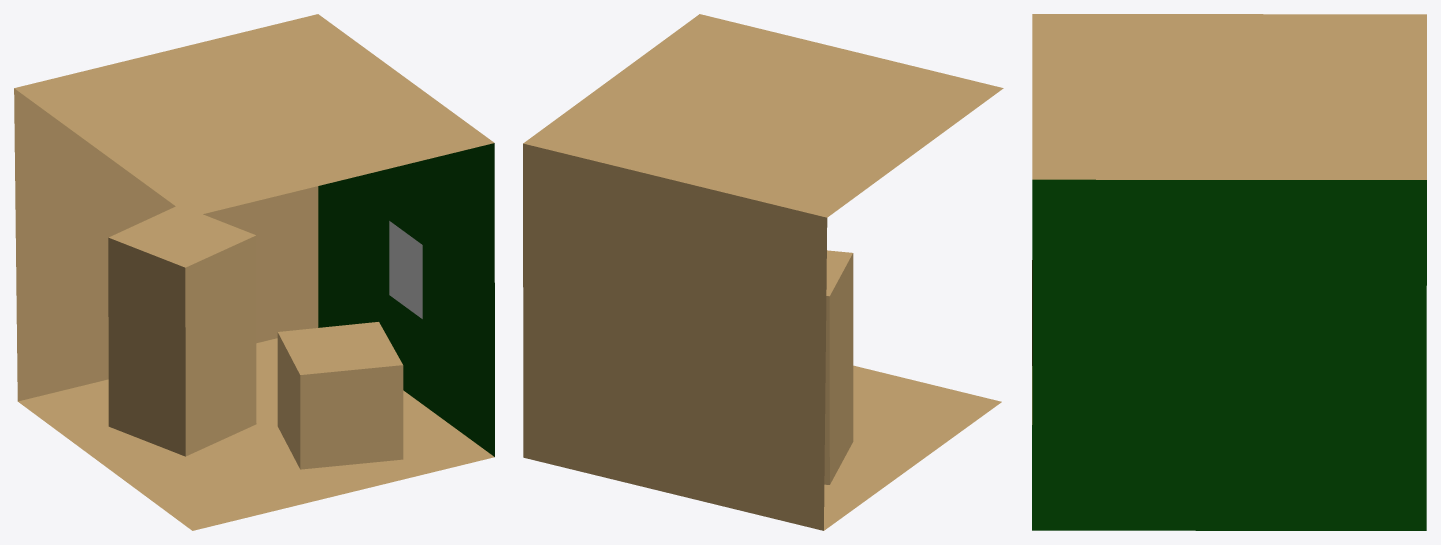
The model's file is cornell_blocked_double_light.obj.
The picture shows the model from 3 angles, left to right: view 1: azimuth 30°, elevation 25°; view 2: azimuth 150°, elevation 25°; view 3: azimuth 270°, elevation 25°; orthographic projection. The views are drawn at different scales.
Parts seen in each view (by area): view 1: ceiling, back_wall, right_wall, tall_box, floor, short_box, area_light.002; view 2: back_wall, ceiling, floor, tall_box; view 3: right_wall, ceiling.
Part boxes in pixels (left/top/right/bottom): ceiling: left=14, top=14, right=494, bottom=216; back_wall: left=14, top=88, right=318, bottom=401; right_wall: left=318, top=143, right=494, bottom=456; tall_box: left=108, top=206, right=256, bottom=456; floor: left=18, top=338, right=494, bottom=530; short_box: left=277, top=322, right=403, bottom=469; area_light.002: left=389, top=221, right=422, bottom=318; back_wall: left=523, top=143, right=827, bottom=530; ceiling: left=523, top=14, right=1003, bottom=217; floor: left=824, top=365, right=1001, bottom=530; tall_box: left=824, top=250, right=853, bottom=484; right_wall: left=1032, top=179, right=1426, bottom=530; ceiling: left=1032, top=14, right=1426, bottom=179.
Size of the model in its own units: 5.56 by 5.49 by 5.6.
